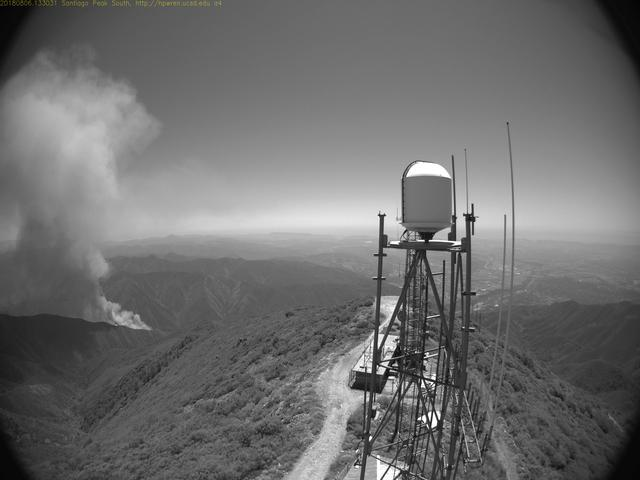smoke: (0, 50, 151, 334)
